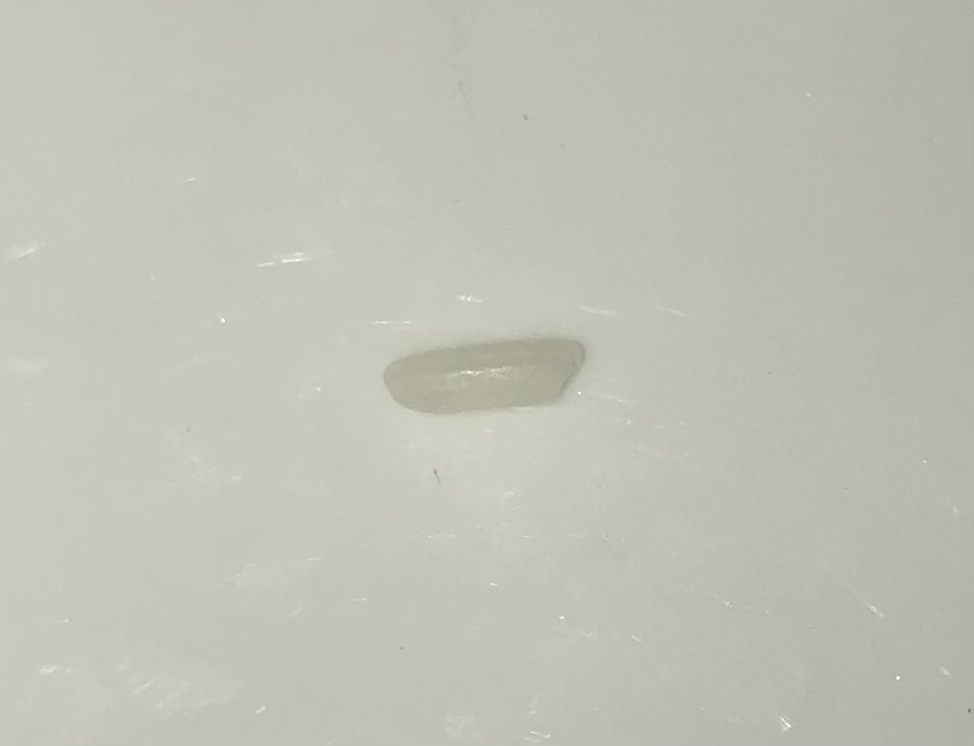Gao Lai Sua: (387, 326, 587, 430)
